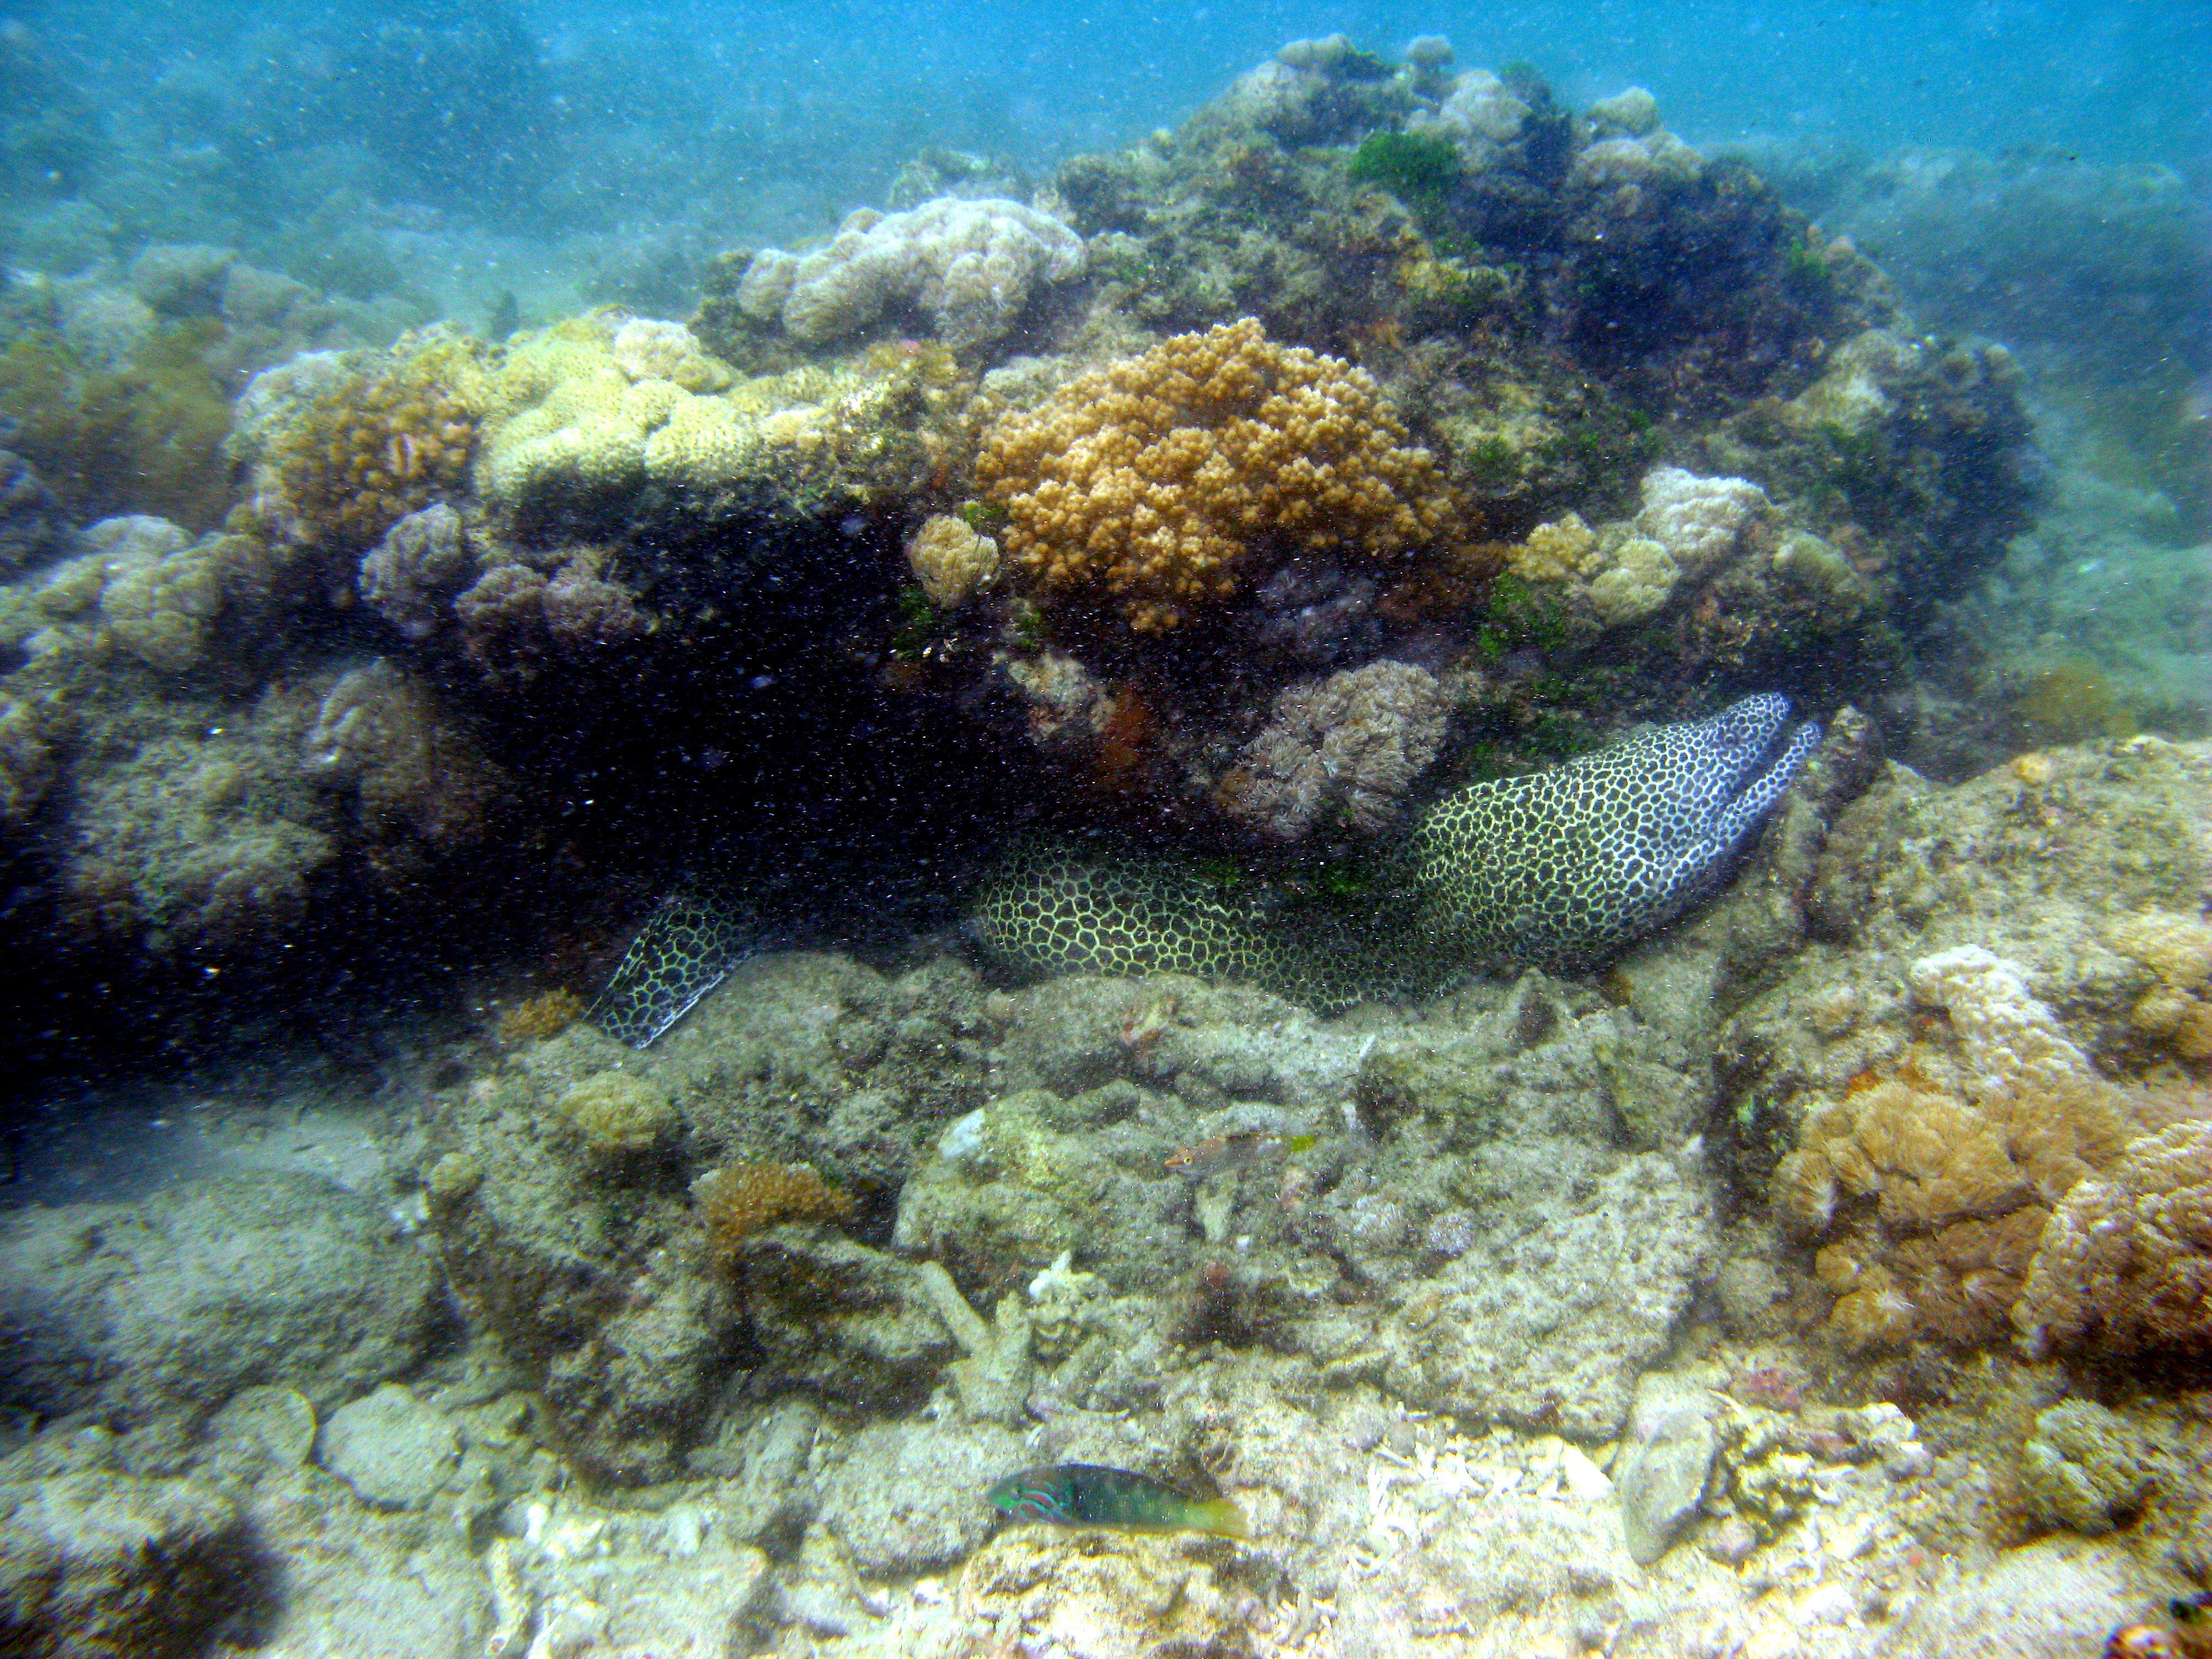Fish: (533, 667, 1843, 1121)
